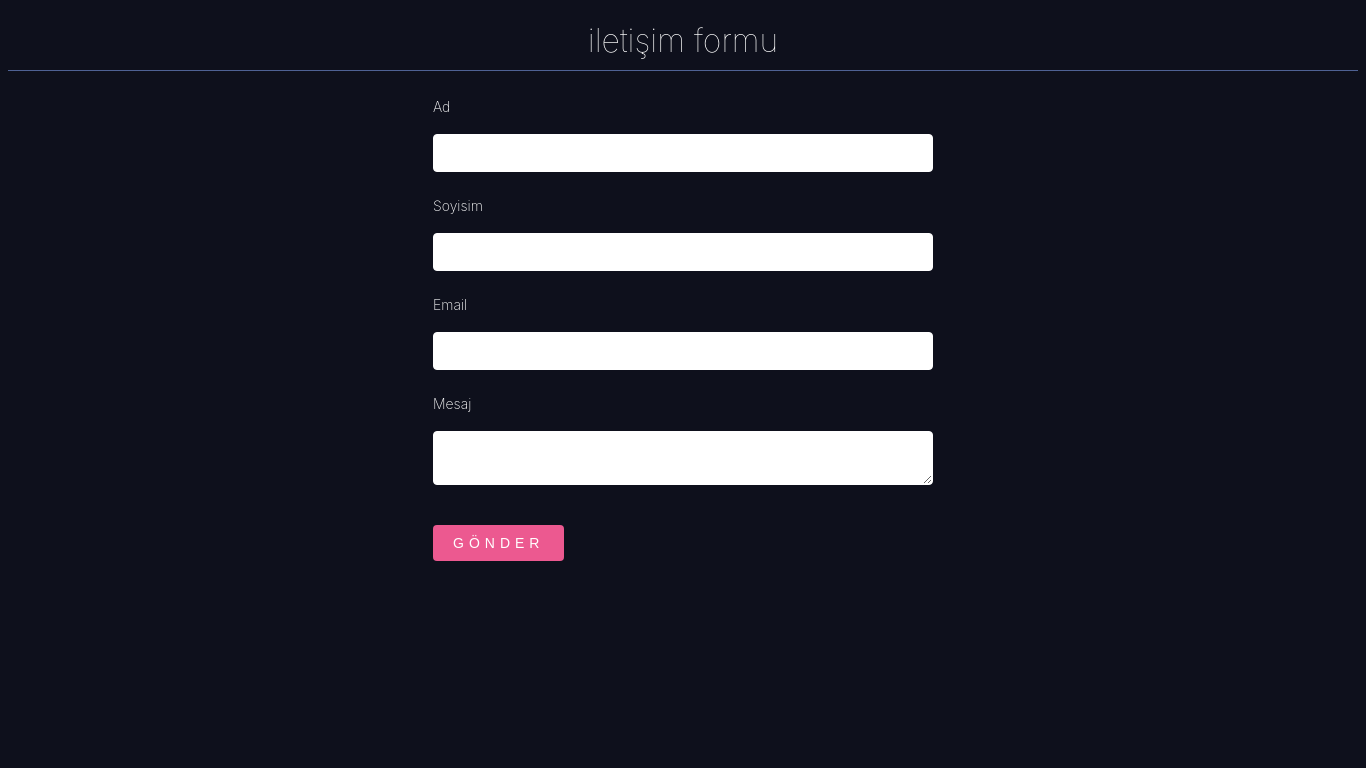
Test: [7] soyad girilmeden gönderilirse "Hata: soyad gereklidir." mesajı render ediliyor
Type "Caner" into the field with test id "name".
click(683, 153); type("Caner")  # box top-left (433, 134), bottom-right (933, 172)
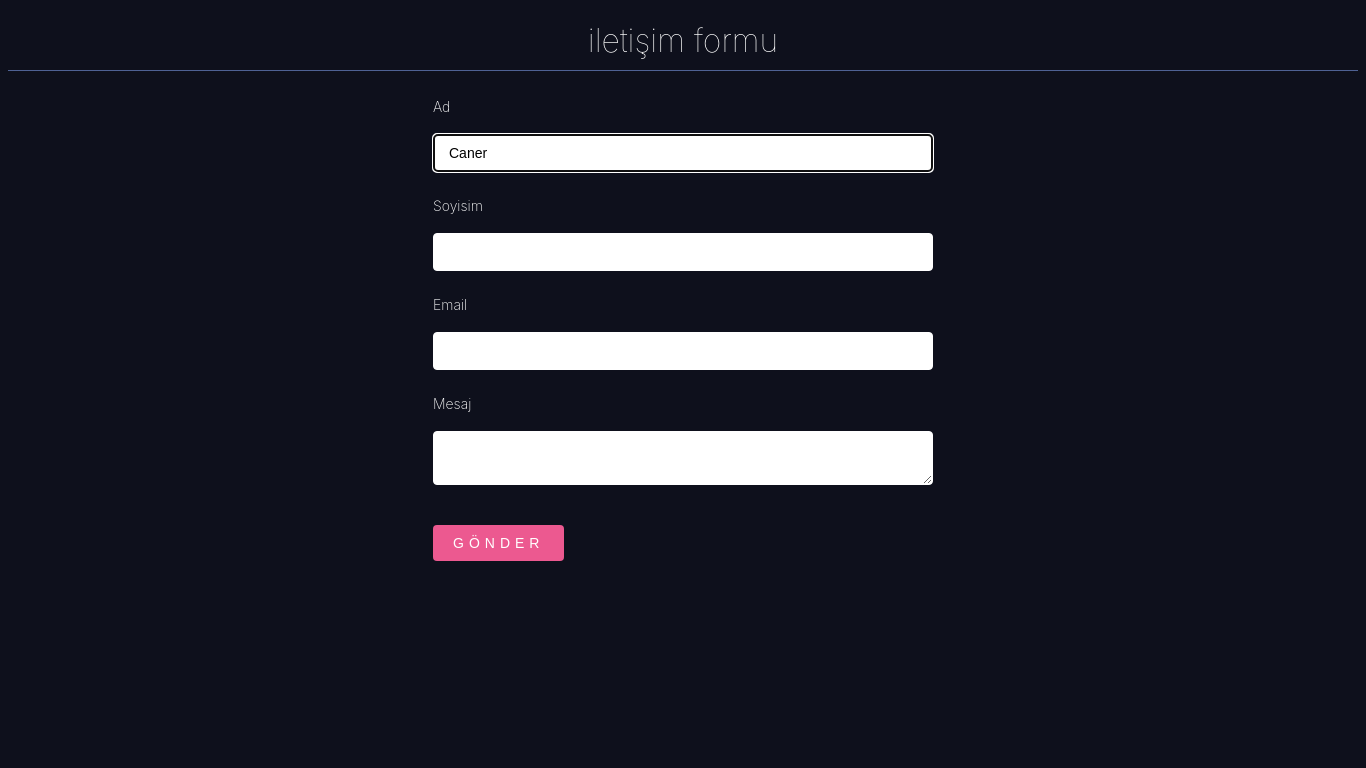
Type "test@test.com" into the field with test id "email".
click(683, 351); type("test@test.com")  # box top-left (433, 332), bottom-right (933, 370)
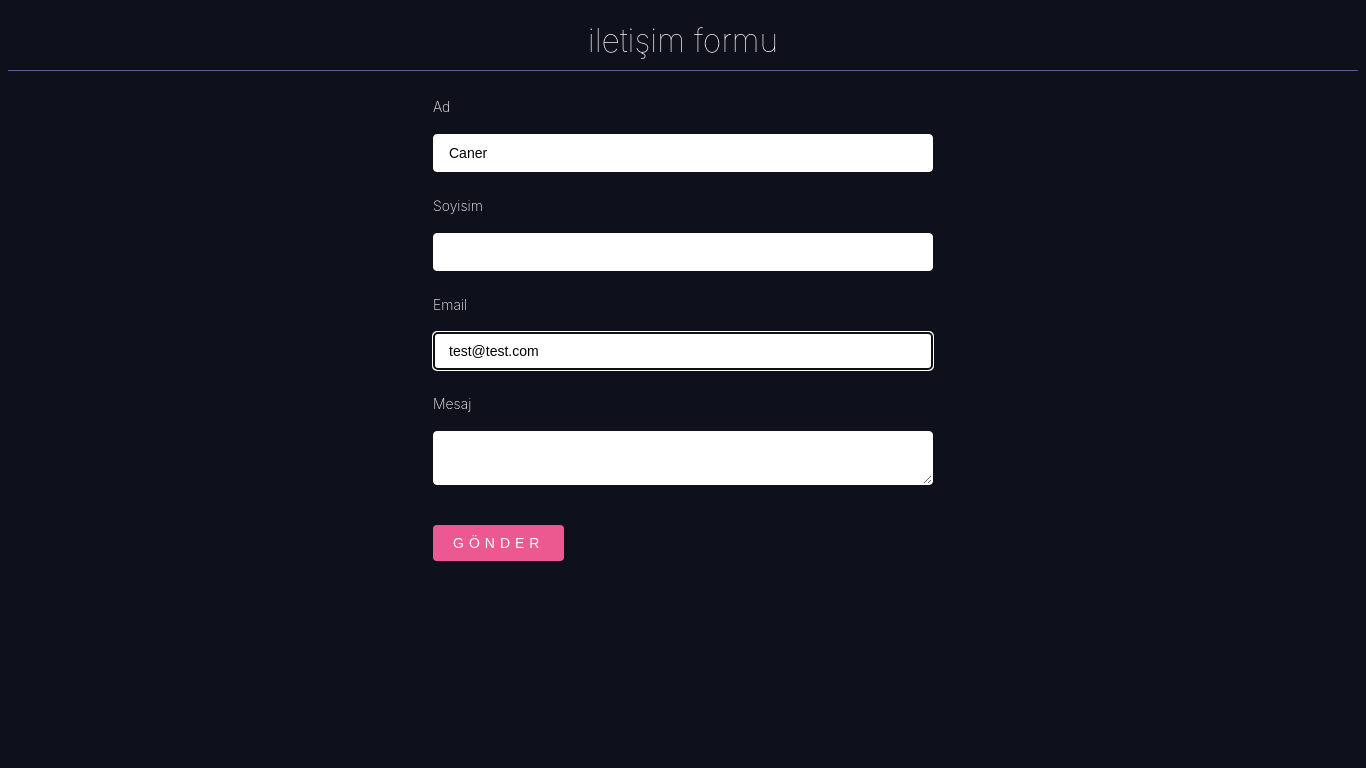
Click the button.
click(499, 543)  # box top-left (433, 525), bottom-right (564, 561)
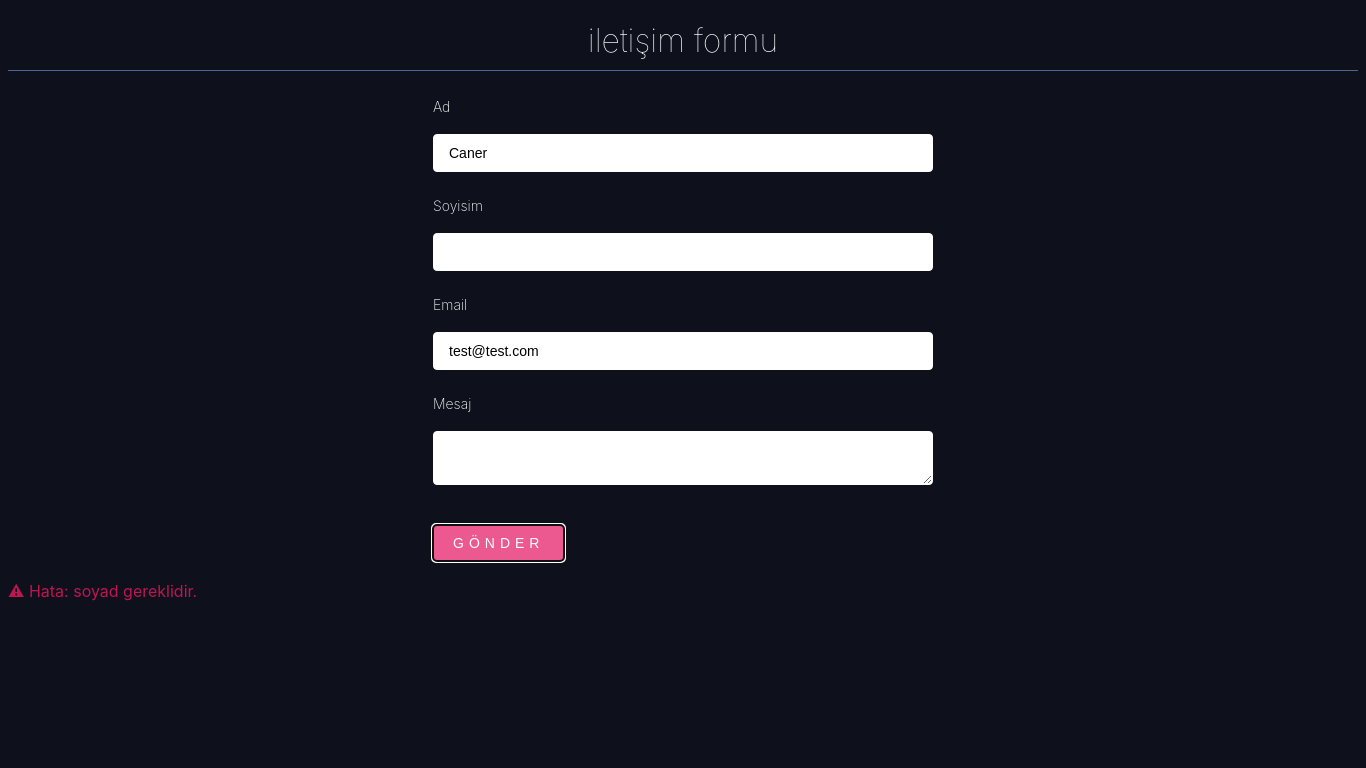
Result: the text "Hata: soyad gereklidir." is shown at top-left (29, 581), bottom-right (197, 601)
